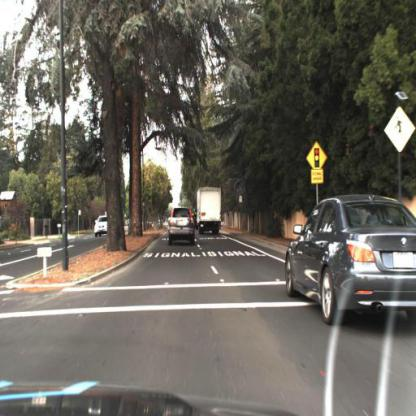car: (282, 177, 416, 352), (193, 182, 227, 236), (165, 197, 199, 250), (92, 208, 108, 241)
